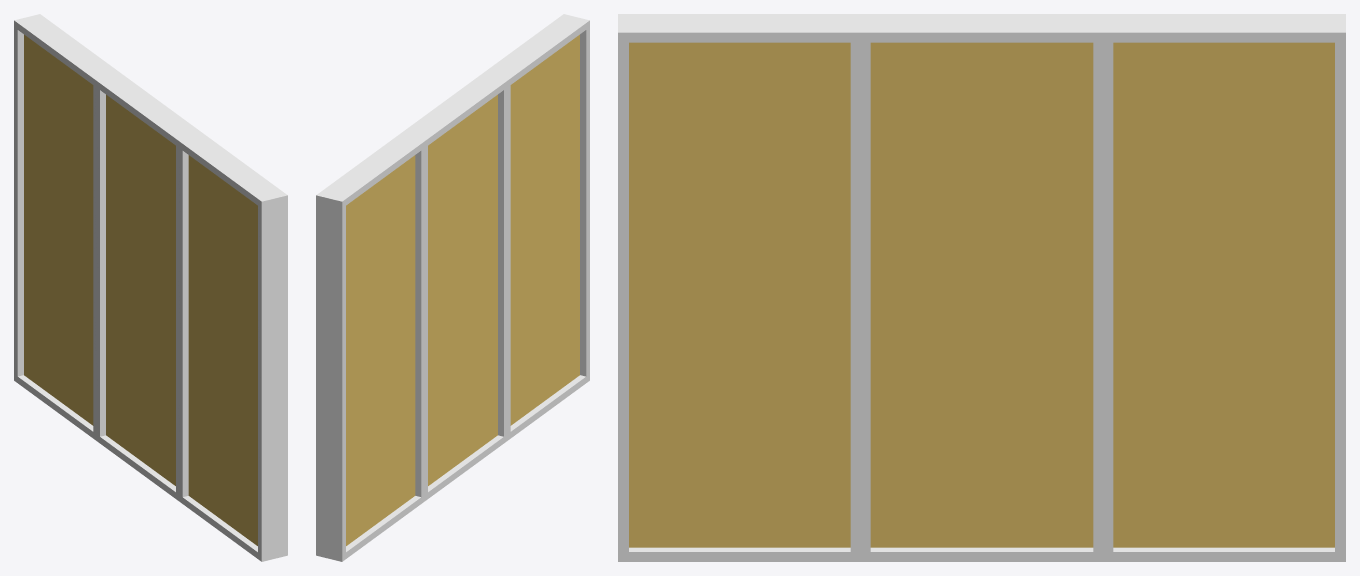
The model's file is Window_17.fbx.
The picture shows the model from 3 angles, left to right: view 1: azimuth 30°, elevation 25°; view 2: azimuth 150°, elevation 25°; view 3: azimuth 270°, elevation 25°; orthographic projection. The views are drawn at different scales.
Visible parts, largest first — view 1: Window_17; view 2: Window_17; view 3: Window_17.
Boxes of the visible parts, left/top/right/bottom form: Window_17: left=14, top=14, right=287, bottom=561; Window_17: left=316, top=14, right=589, bottom=561; Window_17: left=618, top=14, right=1345, bottom=561.
Size of the model in its own units: 0.2096 by 2.76 by 3.45.
